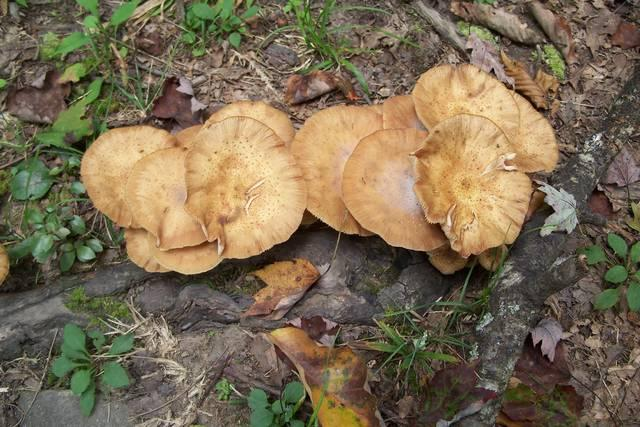Edible Mushroom: (79, 61, 559, 277)
